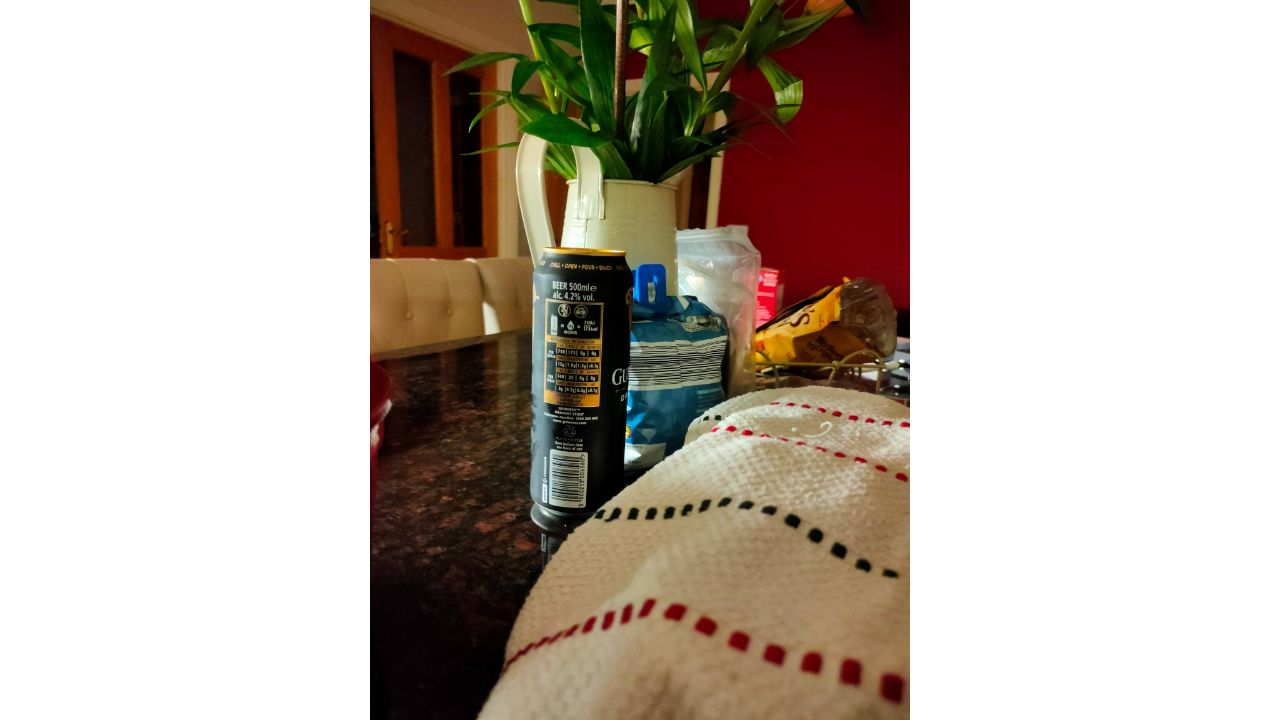Can: (531, 249, 625, 527)
